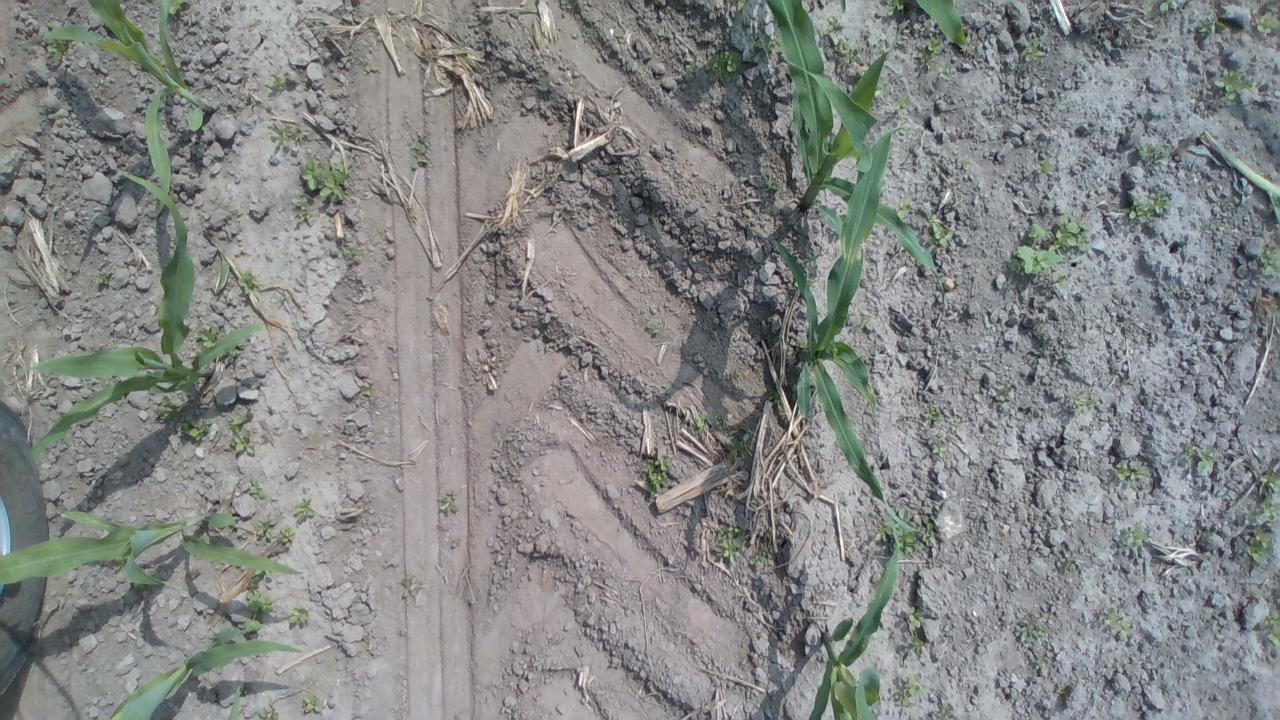Maize: (20, 170, 266, 467), (768, 0, 952, 286), (772, 124, 905, 509), (52, 0, 216, 224), (5, 504, 314, 595), (803, 514, 914, 720), (93, 622, 314, 720)
Weeds: (1007, 223, 1061, 279), (872, 505, 921, 556), (302, 160, 348, 201), (641, 449, 674, 495), (1054, 216, 1094, 252), (714, 522, 746, 565), (229, 412, 258, 458), (890, 671, 924, 710), (1180, 438, 1219, 472), (826, 19, 856, 62), (920, 35, 950, 76), (1214, 65, 1249, 100), (725, 432, 760, 466), (710, 48, 746, 80), (408, 128, 434, 172), (1242, 526, 1272, 564), (1116, 462, 1159, 488), (1100, 609, 1141, 636), (690, 412, 730, 438), (1258, 246, 1280, 286), (900, 600, 927, 632), (1017, 616, 1045, 646), (244, 586, 274, 614), (750, 541, 776, 572), (1244, 501, 1278, 524), (928, 216, 954, 246), (762, 165, 788, 195), (272, 124, 302, 150), (180, 416, 211, 441), (542, 327, 566, 359), (1069, 390, 1098, 416), (291, 494, 316, 524), (927, 698, 961, 720), (640, 320, 669, 344), (1136, 1, 1182, 16), (1198, 14, 1224, 40), (436, 489, 461, 516), (236, 267, 257, 298), (748, 31, 773, 57), (397, 574, 422, 600), (1262, 608, 1280, 644), (253, 516, 276, 544), (1256, 11, 1278, 40), (46, 36, 70, 62), (156, 396, 180, 422), (990, 385, 1019, 406), (1136, 142, 1166, 162), (288, 603, 312, 628), (902, 635, 928, 658), (927, 435, 951, 459), (1150, 190, 1174, 214), (1124, 526, 1148, 550), (1023, 41, 1048, 64), (919, 404, 942, 429), (1128, 198, 1150, 224), (200, 326, 222, 351), (920, 522, 941, 548), (684, 49, 704, 76), (266, 70, 289, 93), (246, 478, 269, 501), (1032, 156, 1056, 178), (276, 524, 298, 548), (301, 691, 322, 714), (1264, 471, 1280, 499), (242, 614, 264, 634), (887, 0, 911, 16), (897, 200, 915, 221), (96, 270, 117, 288), (957, 150, 974, 172), (166, 0, 188, 17), (256, 705, 280, 720), (1062, 559, 1081, 577), (341, 244, 360, 262)
